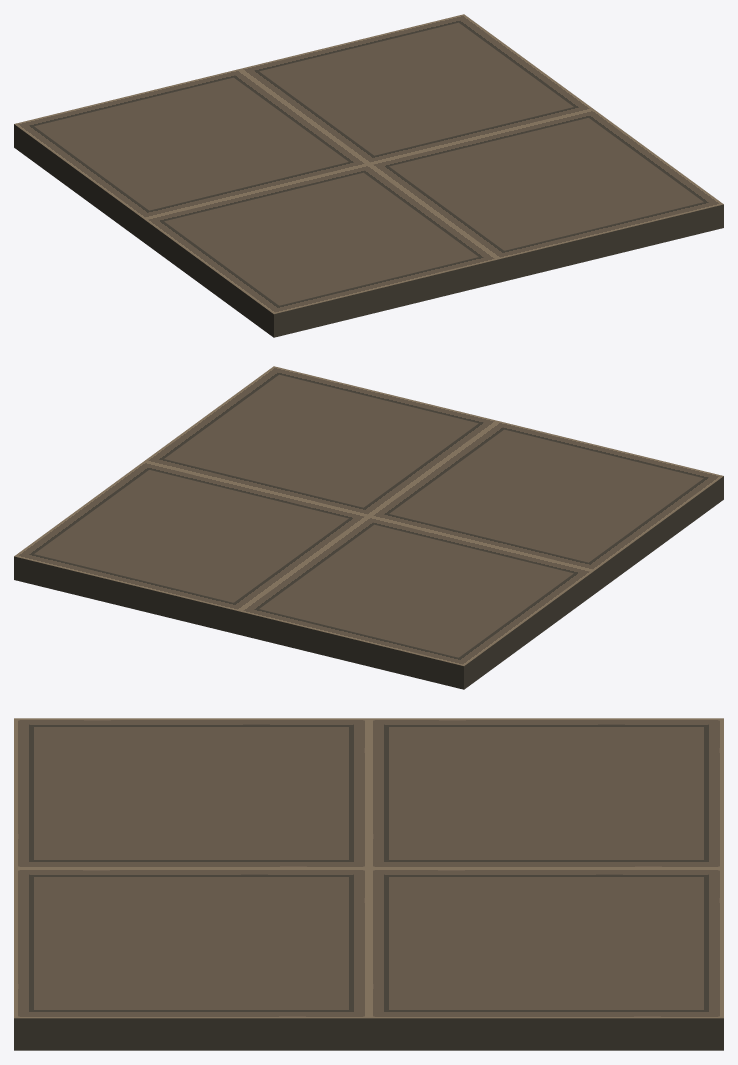
Rendered from Cosmic_retro_station_floor_tile.fbx.
The picture shows the model from 3 angles, top to bottom: view 1: azimuth 30°, elevation 25°; view 2: azimuth 150°, elevation 25°; view 3: azimuth 270°, elevation 25°; orthographic projection. The views are drawn at different scales.
Parts seen in each view (by area): view 1: Cosmic_retro_station_floor_tile; view 2: Cosmic_retro_station_floor_tile; view 3: Cosmic_retro_station_floor_tile.
Boxes of the visible parts, x1=… form: Cosmic_retro_station_floor_tile: x1=14, y1=14, x2=723, y2=337; Cosmic_retro_station_floor_tile: x1=14, y1=366, x2=723, y2=689; Cosmic_retro_station_floor_tile: x1=14, y1=718, x2=723, y2=1050.
Bounding box in the file's own units: 2 × 0.1 × 2.
